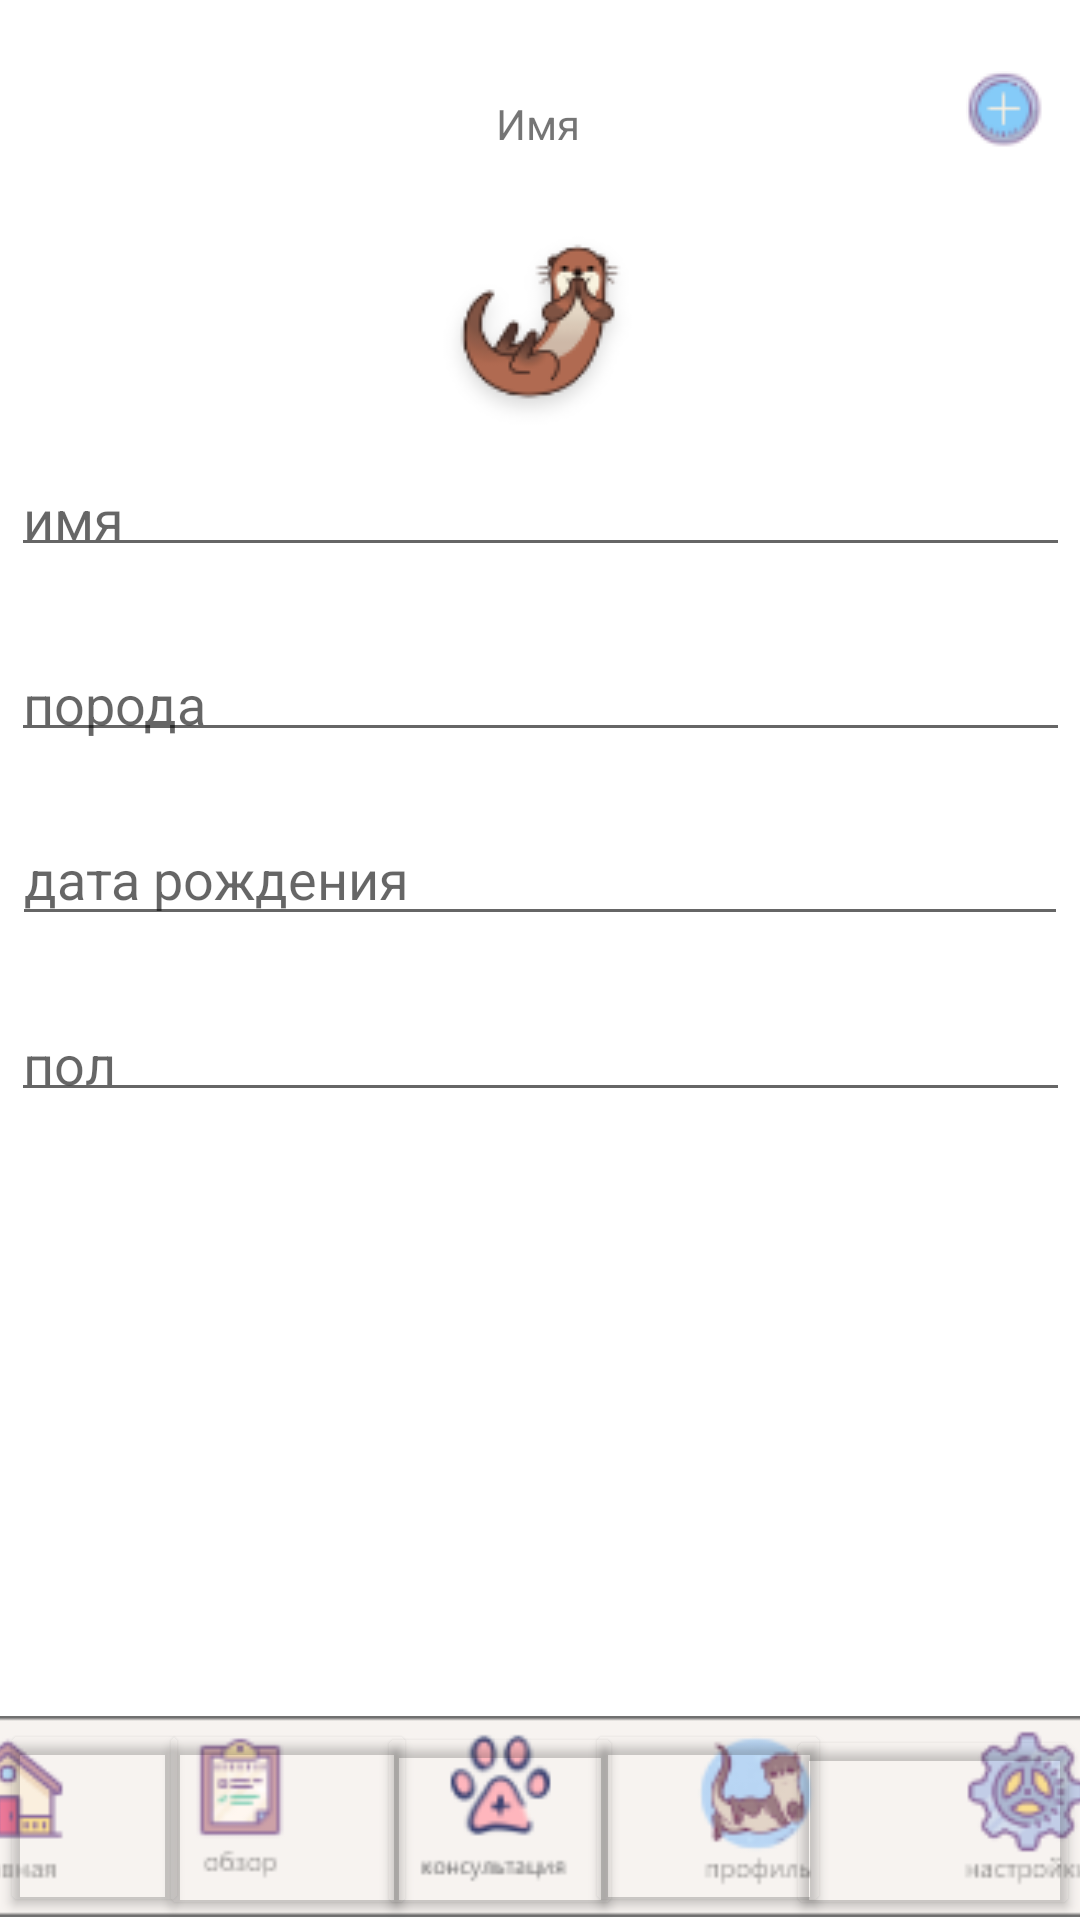

Icon bounding boxes for this 1080px x 1920px phone screenshot, format (x1, y1, x2, y2):
add: (968, 73, 1041, 146)
